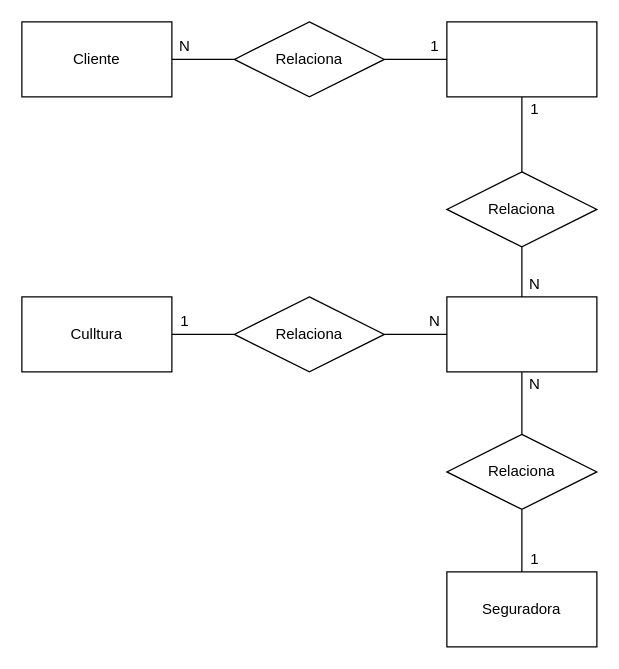
Some shapes in this 619 by 669 pixel diagram are drawn without their labels. Each missing label, with the box of its shape:
Municipio: (446, 21, 597, 97)
Plantio: (446, 296, 597, 372)
